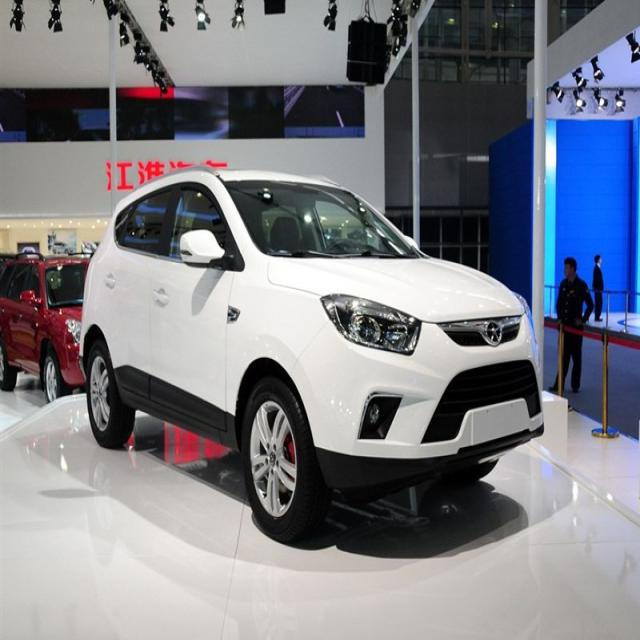door: (115, 187, 179, 395)
front_bumper: (292, 326, 546, 459)
front_glass: (222, 175, 424, 263)
front_right_side_door: (154, 176, 236, 426)
front_right_side_light: (322, 291, 422, 366)
front_right_side_mirror: (179, 225, 228, 273)
wheel: (238, 372, 318, 538), (84, 343, 134, 446)
